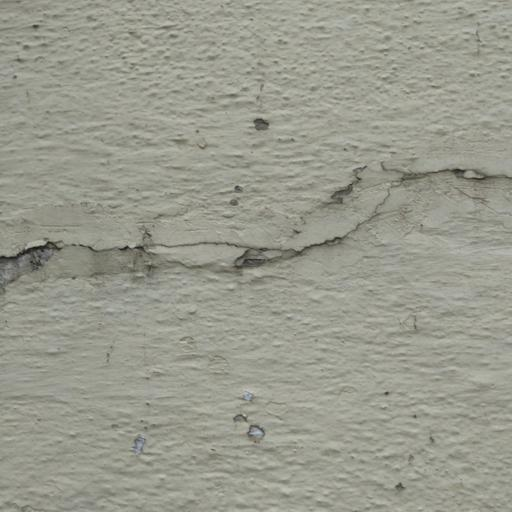minor_crack: (0, 144, 512, 294)
